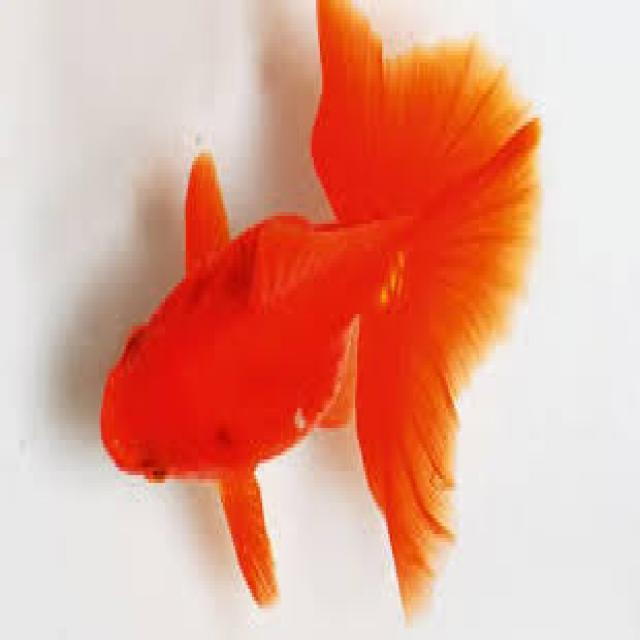goldfish: (62, 9, 549, 631)
